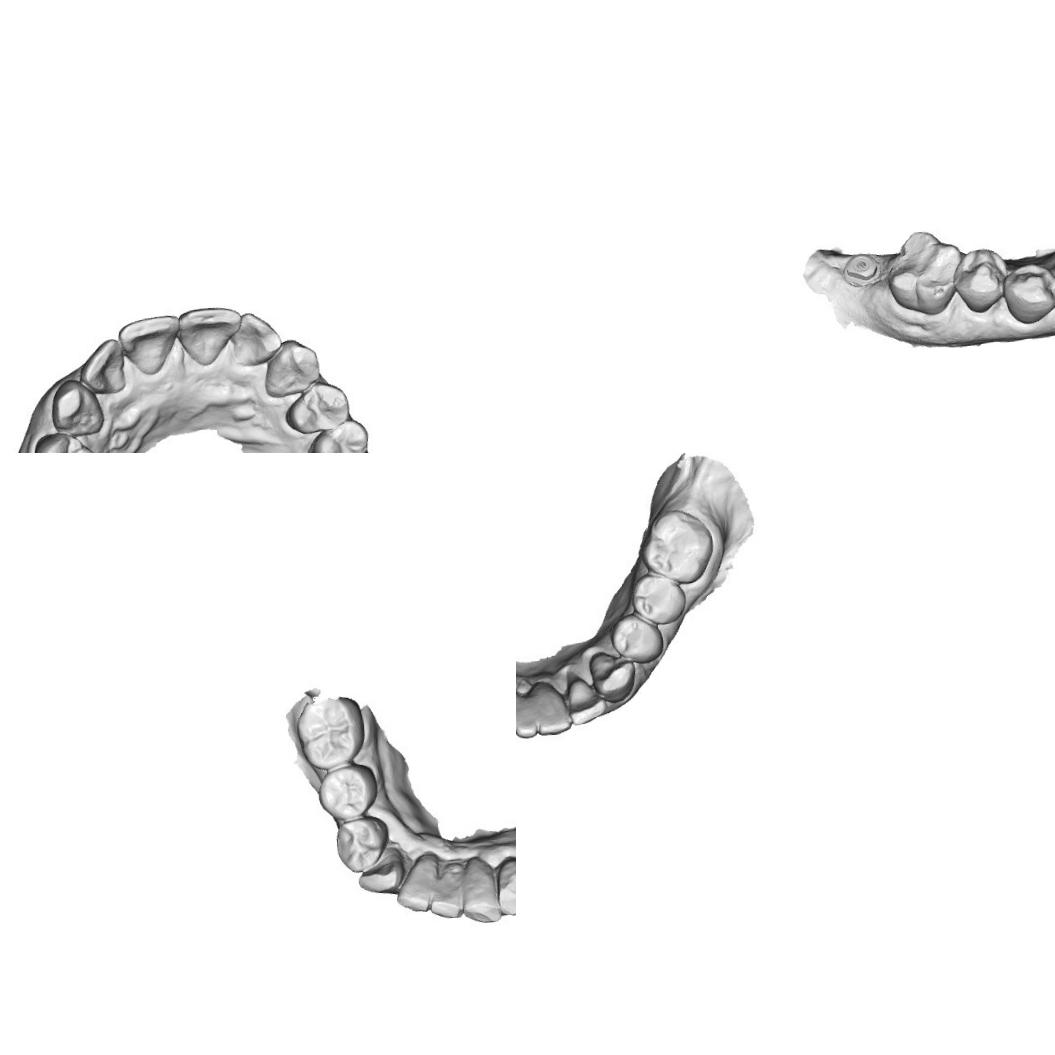canine: (258, 336, 323, 399), (45, 374, 106, 438), (588, 649, 638, 704), (357, 856, 400, 897), (492, 854, 516, 918)
implant: (836, 244, 888, 295)
incisor: (172, 300, 246, 373), (115, 310, 182, 376), (227, 307, 287, 370), (77, 334, 130, 396), (462, 858, 502, 922), (426, 856, 468, 916), (532, 678, 573, 736), (564, 674, 608, 725), (396, 858, 436, 912), (516, 694, 537, 738)
molar: (887, 221, 964, 320), (637, 505, 715, 587), (294, 698, 366, 768)
premolar: (282, 376, 356, 436), (952, 247, 1011, 316), (318, 764, 381, 823), (334, 818, 392, 875), (1005, 262, 1054, 329), (629, 570, 686, 626), (608, 610, 665, 666), (303, 419, 372, 453), (29, 429, 102, 453)
